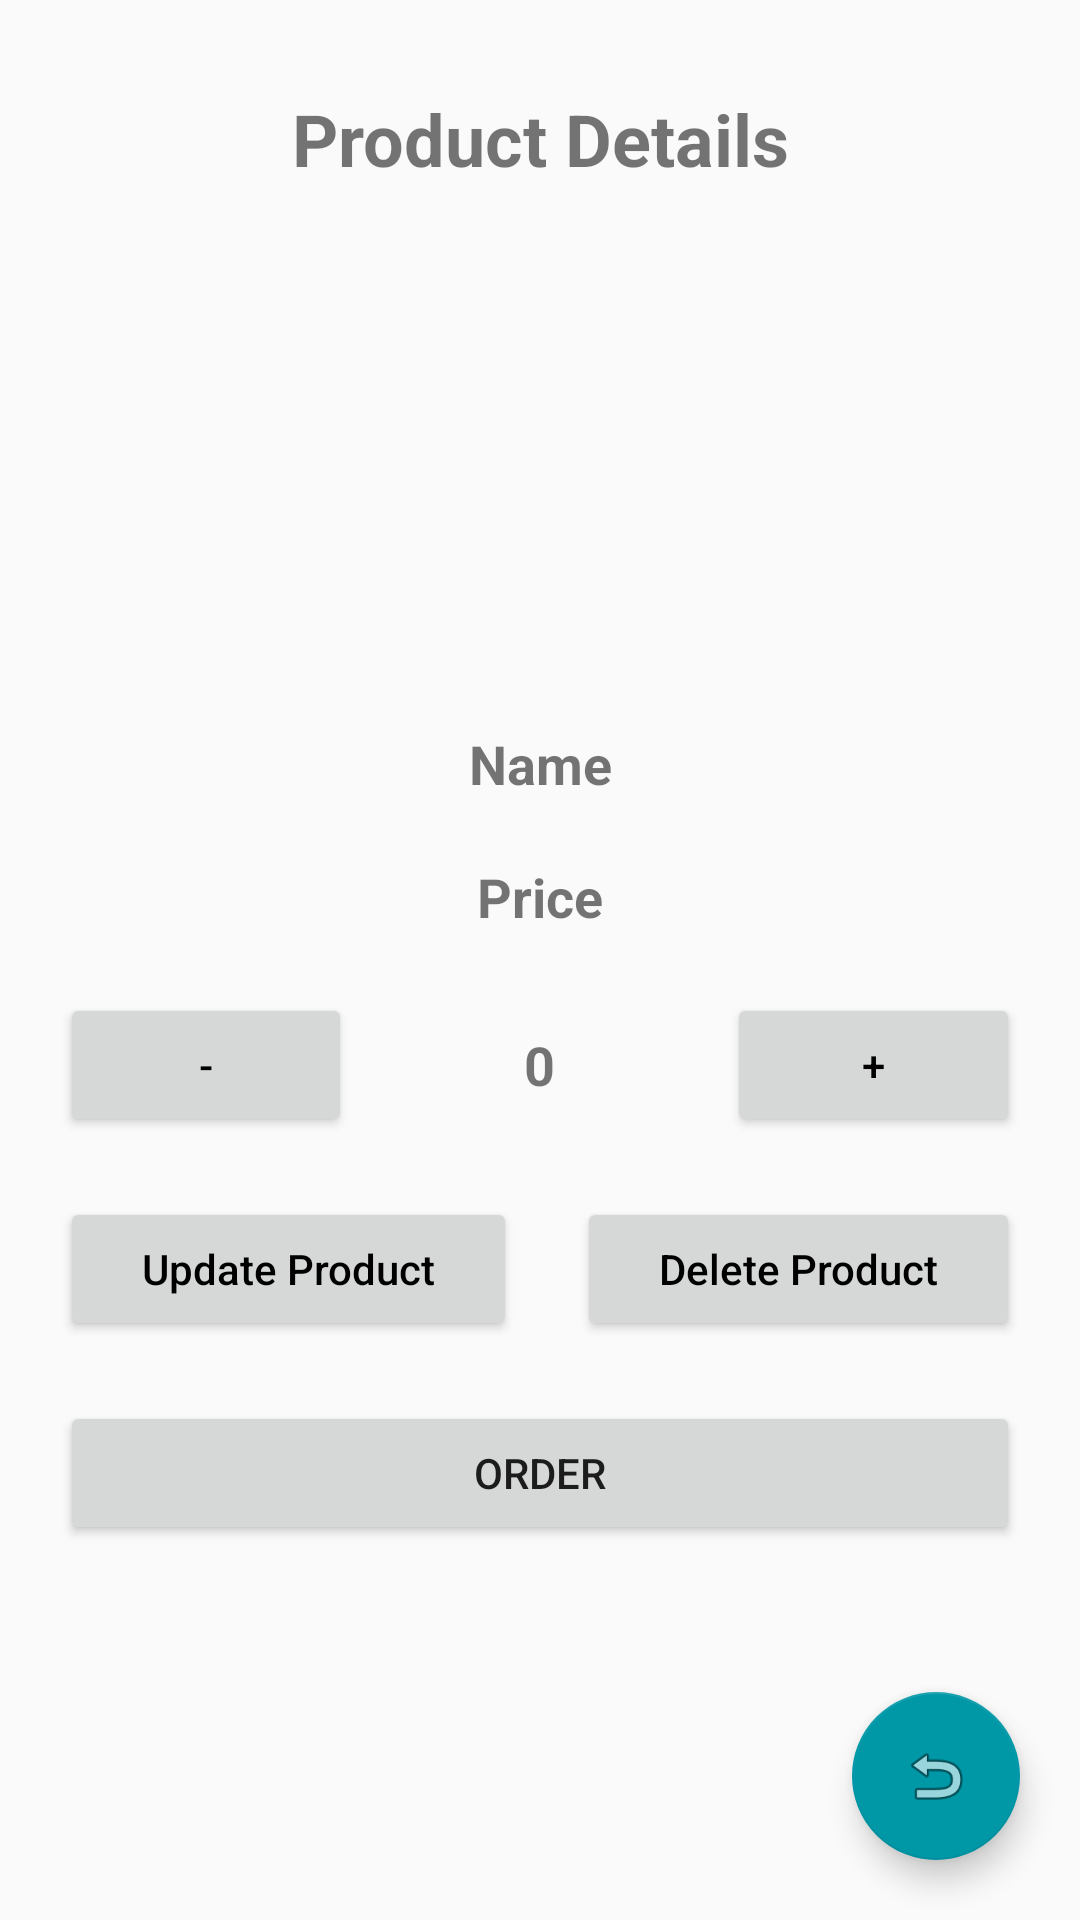

Screen size 1080 × 1920. Icon name, then its center in pixels as (x=x, y=y):
revert: (x=936, y=1776)
